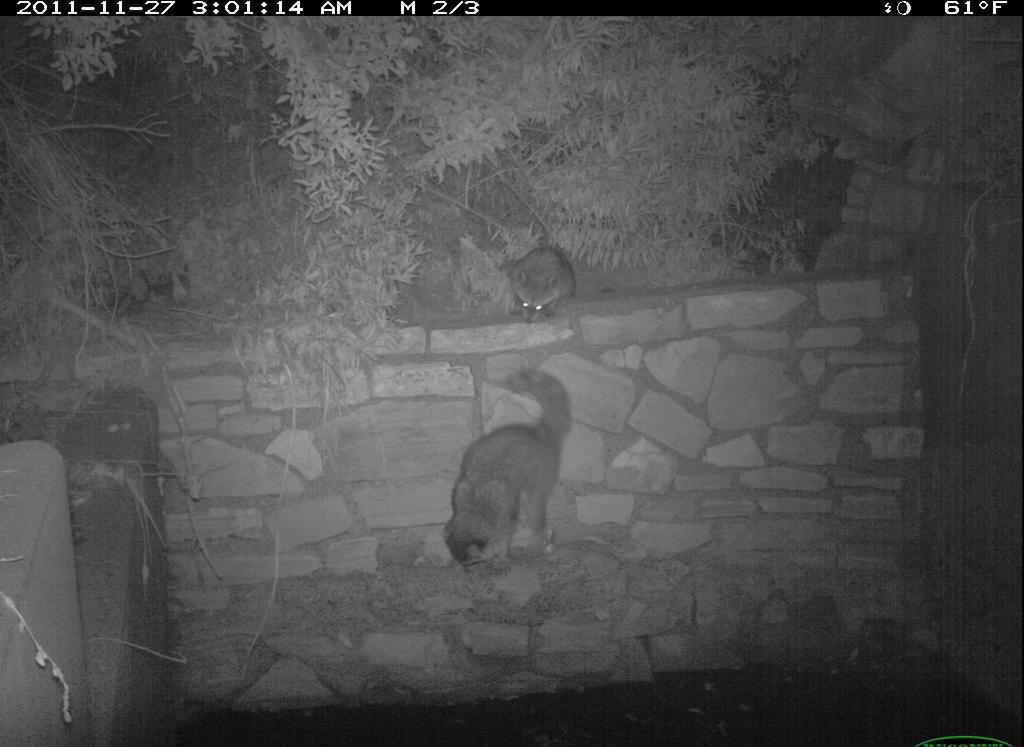raccoon: (441, 373, 584, 588), (505, 240, 587, 331)
